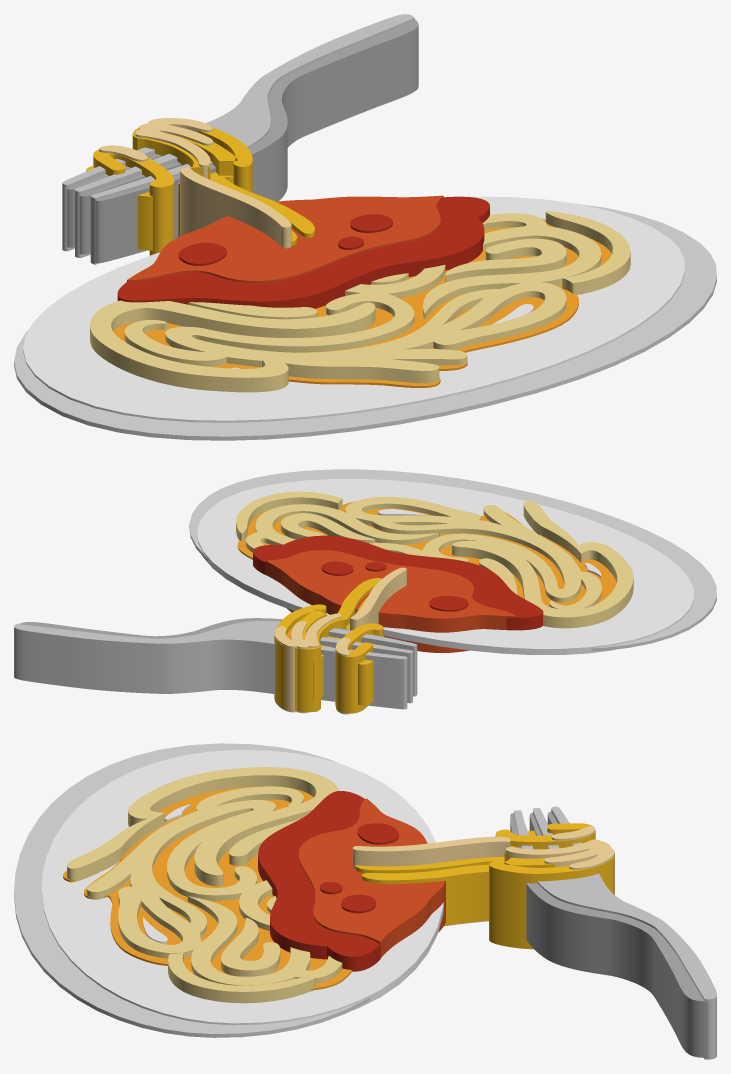
The model's file is emoji_u1f35d.glb.
The picture shows the model from 3 angles, top to bottom: view 1: azimuth 30°, elevation 25°; view 2: azimuth 150°, elevation 25°; view 3: azimuth 270°, elevation 25°; orthographic projection. The views are drawn at different scales.
Visible parts, largest first — view 1: emoji_u1f35d; view 2: emoji_u1f35d; view 3: emoji_u1f35d.
Boxes of the visible parts, x1,y1,x2,y2 form: emoji_u1f35d: [14, 14, 716, 440]; emoji_u1f35d: [14, 469, 716, 714]; emoji_u1f35d: [14, 743, 716, 1059].
Size of the model in its own units: 0.0331 by 0.0042 by 0.0338.
